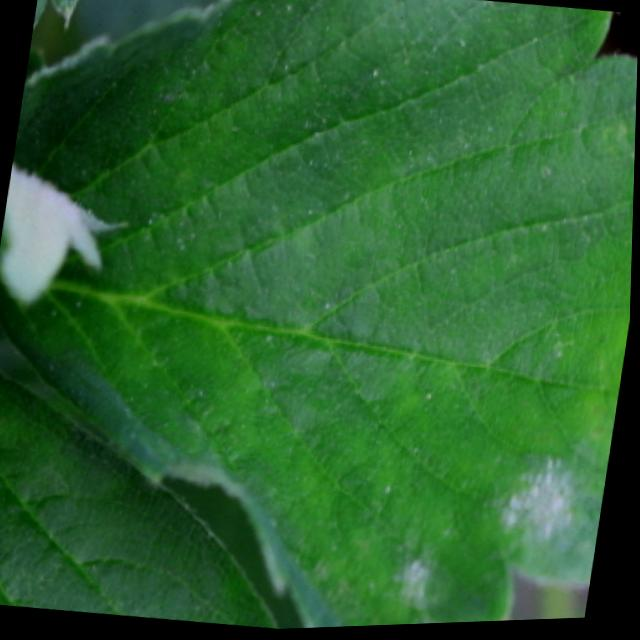Powdery Mildew Leaf: (0, 0, 638, 631), (0, 160, 134, 312)
